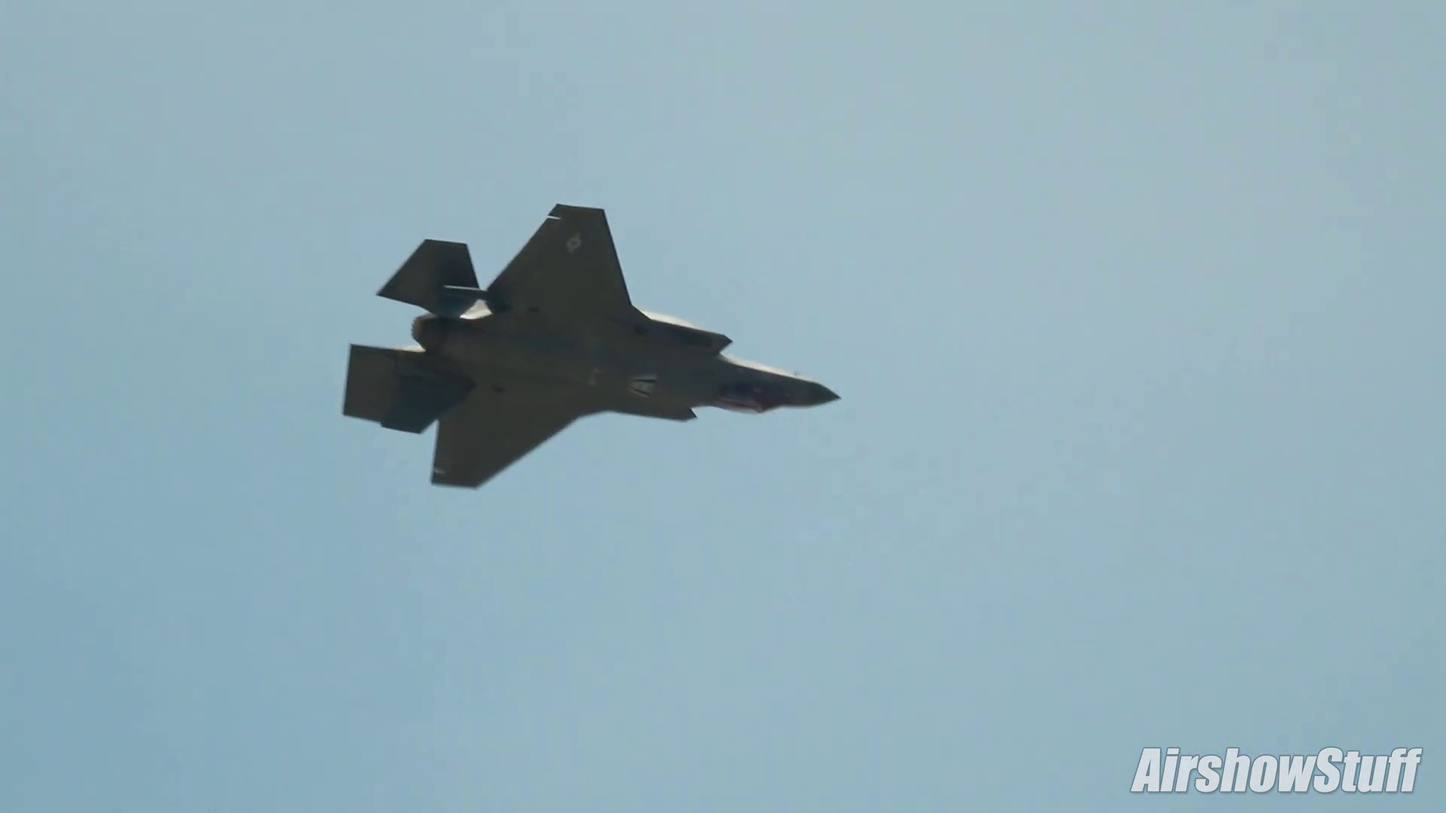F35: (337, 198, 846, 492)
